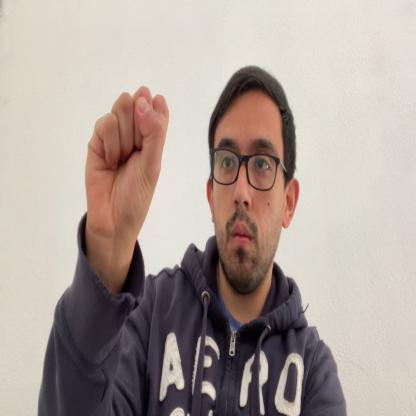S: (86, 88, 170, 255)
